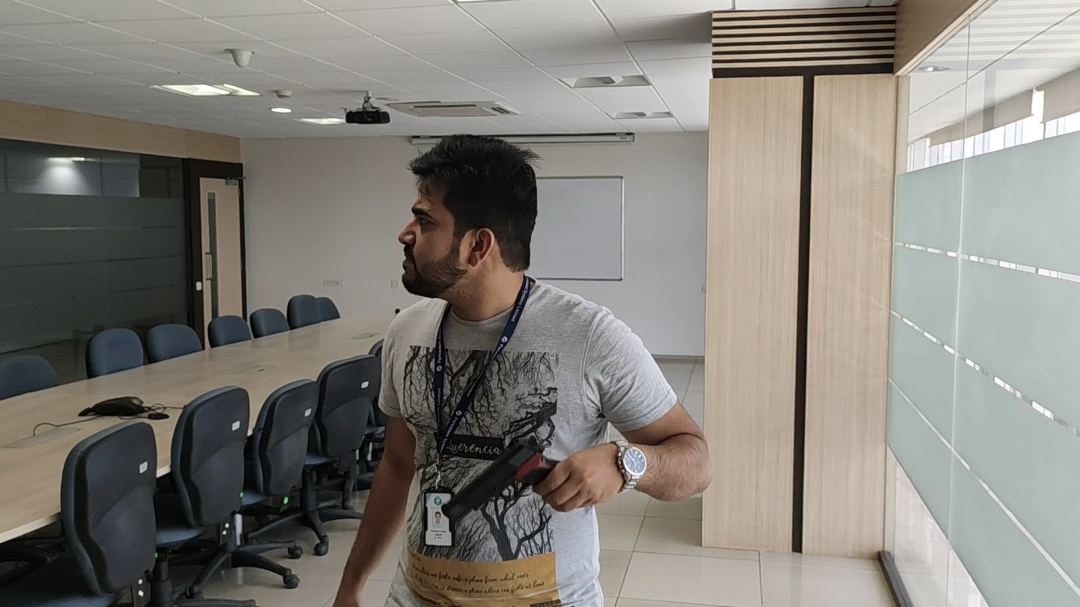gun: (443, 427, 553, 526)
